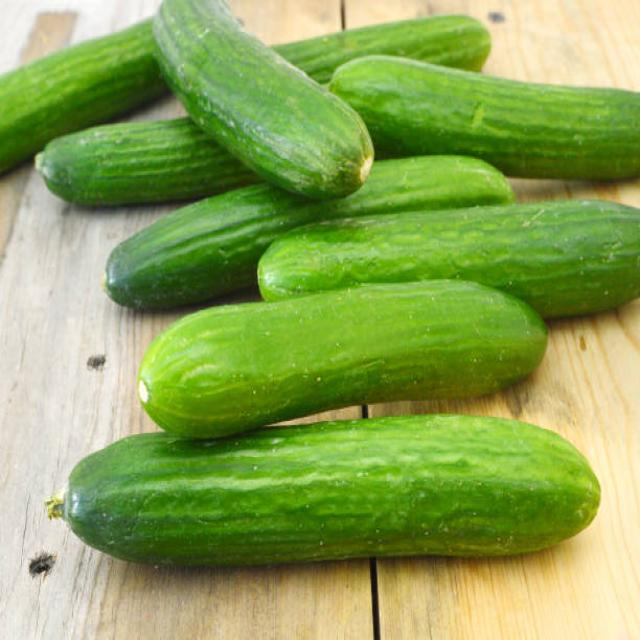cucumber: (64, 411, 602, 566), (140, 281, 548, 441), (107, 151, 512, 307), (259, 198, 640, 315), (328, 52, 640, 183)
